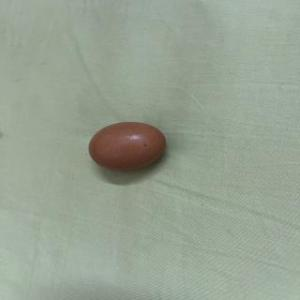egg: (84, 118, 169, 174)
